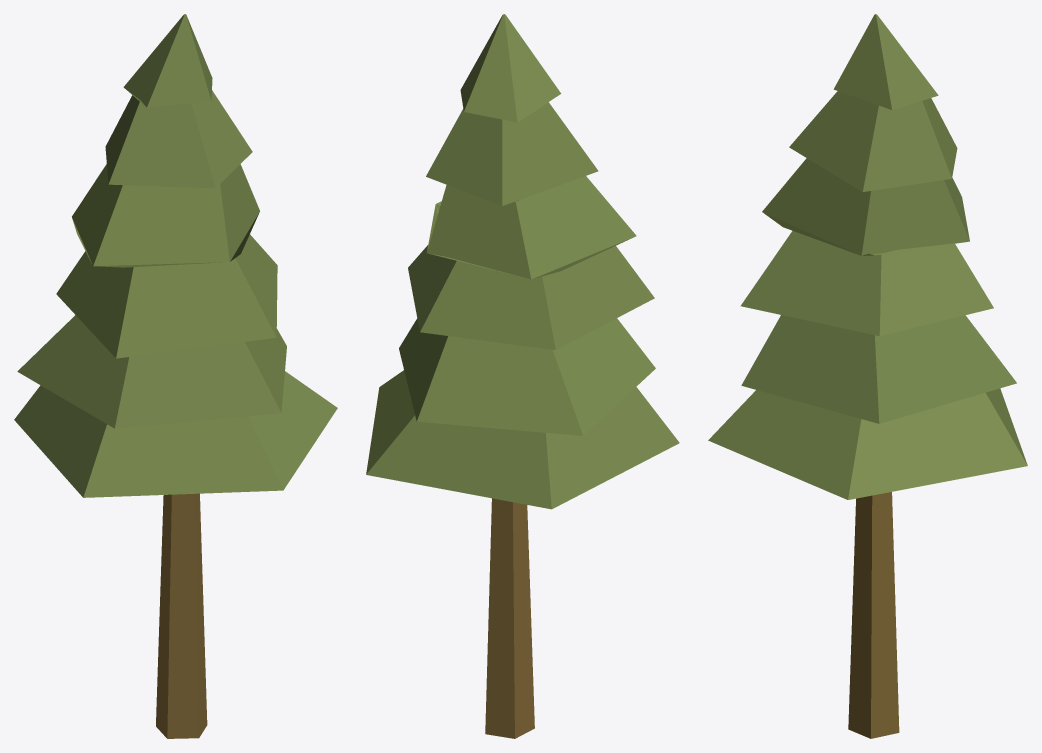
File: pine_1.fbx
3 views of the same model, side by side, from view 1: azimuth 30°, elevation 25°; view 2: azimuth 150°, elevation 25°; view 3: azimuth 270°, elevation 25° (orthographic).
Parts seen in each view (by area): view 1: Cylinder.002; view 2: Cylinder.002; view 3: Cylinder.002.
Part boxes in pixels (<box>): Cylinder.002: <box>14,14,337,738</box>; Cylinder.002: <box>366,14,679,738</box>; Cylinder.002: <box>708,14,1027,738</box>.
Size of the model in its own units: 159 by 389 by 158.
